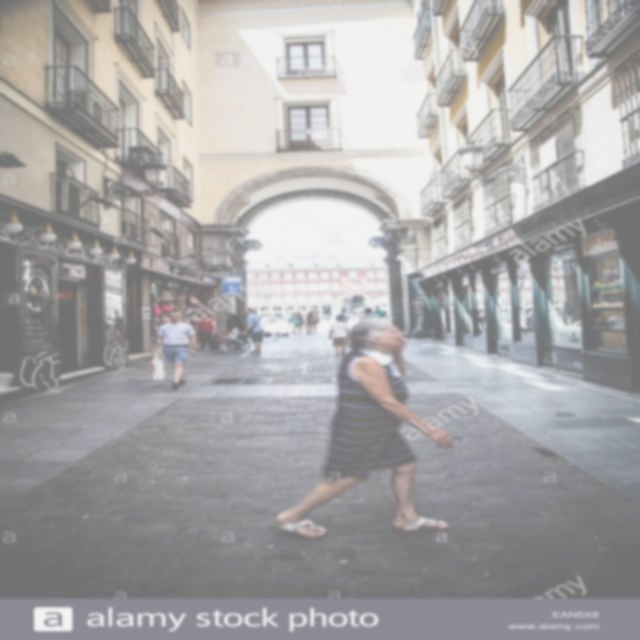pessoa: (268, 316, 459, 540), (148, 309, 200, 392), (240, 307, 265, 355), (194, 310, 219, 352), (213, 320, 243, 354), (556, 300, 584, 336), (328, 316, 353, 356), (224, 308, 246, 352), (106, 310, 125, 340), (474, 306, 489, 333), (306, 311, 321, 334), (304, 312, 318, 335), (370, 304, 390, 320), (286, 312, 300, 334), (292, 310, 303, 334), (362, 306, 381, 318), (338, 307, 352, 323)
